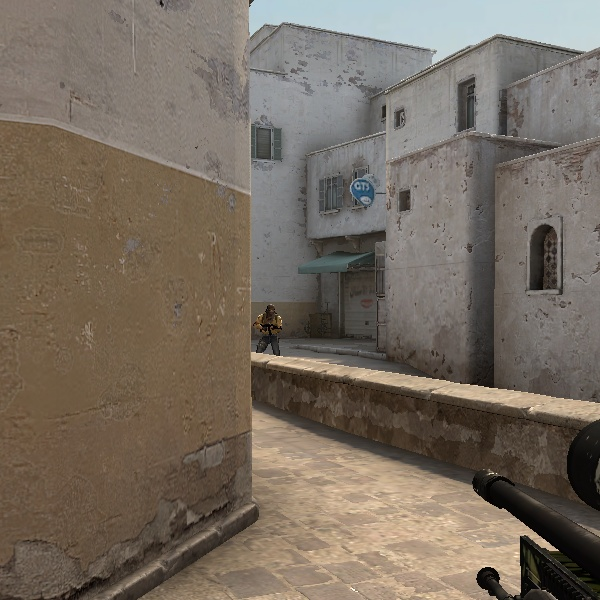t_body: (252, 301, 289, 353)
t_head: (263, 304, 276, 317)
